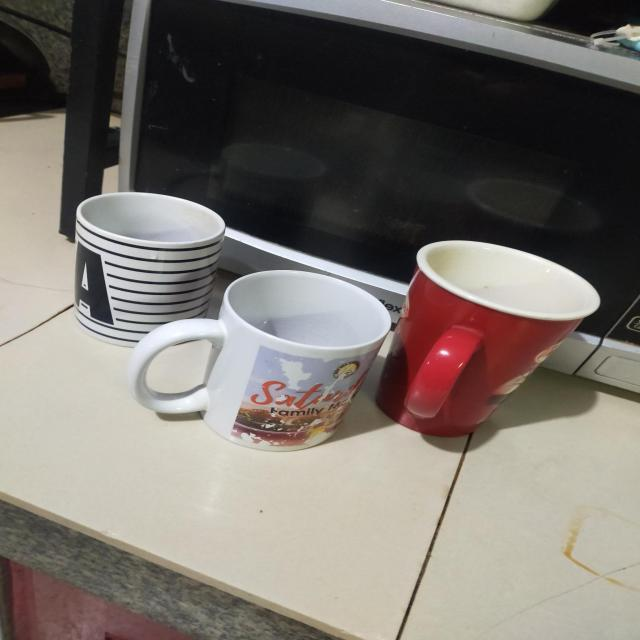taza: (129, 268, 392, 452), (373, 238, 606, 438), (73, 192, 225, 350)
